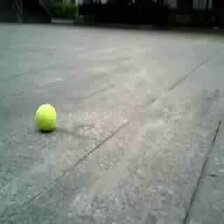tennis: (36, 105, 56, 129)
